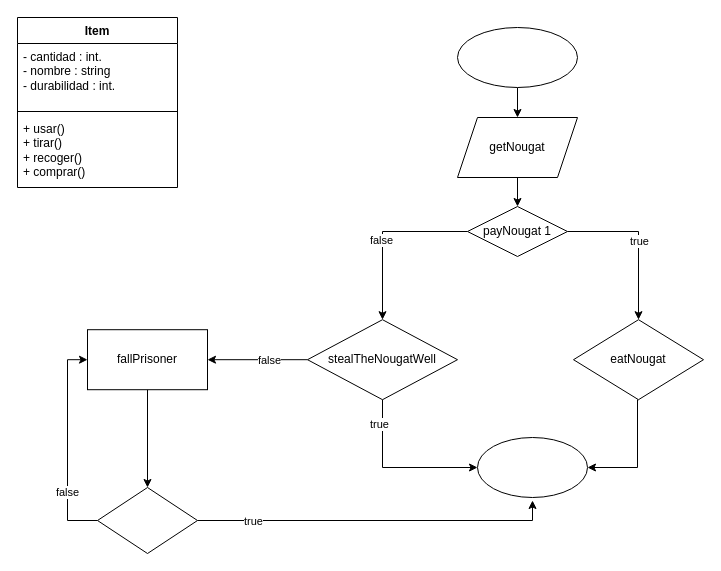
The diagram is 721 pixels wide and 571 high, and some of its shapes have lost their labels. The shapes that lost their labels are listed below. From the top down, each one's centre as x and y in pixels, then its label:
At (x=517, y=57): "buyNougat".
At (x=532, y=467): "beHappy".
At (x=147, y=520): "servingTime".
